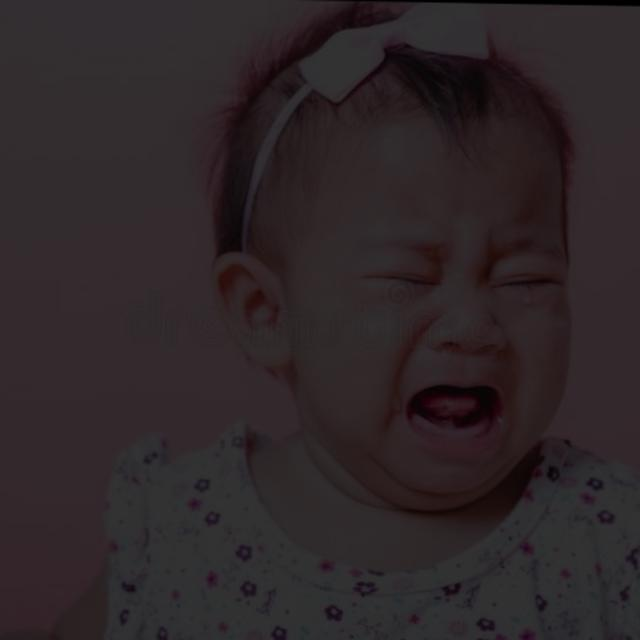Sad: (192, 109, 609, 514)
